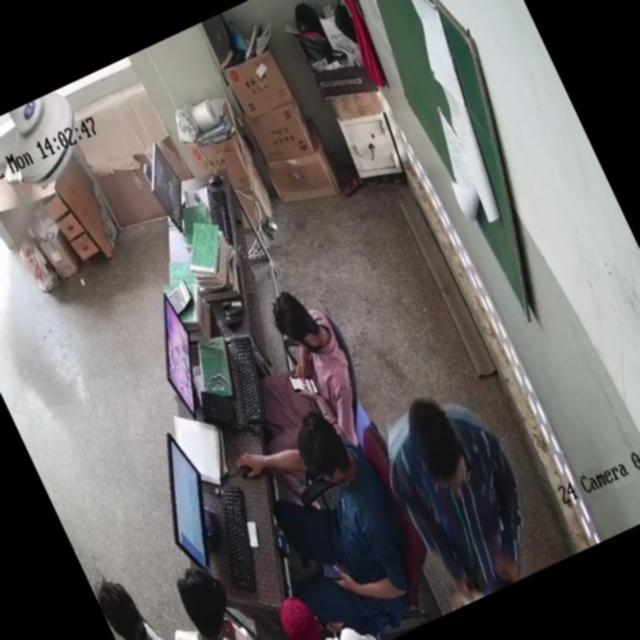person: (372, 384, 548, 602), (251, 406, 425, 626), (225, 277, 372, 445), (153, 545, 295, 640), (90, 552, 226, 640), (278, 576, 384, 640)
